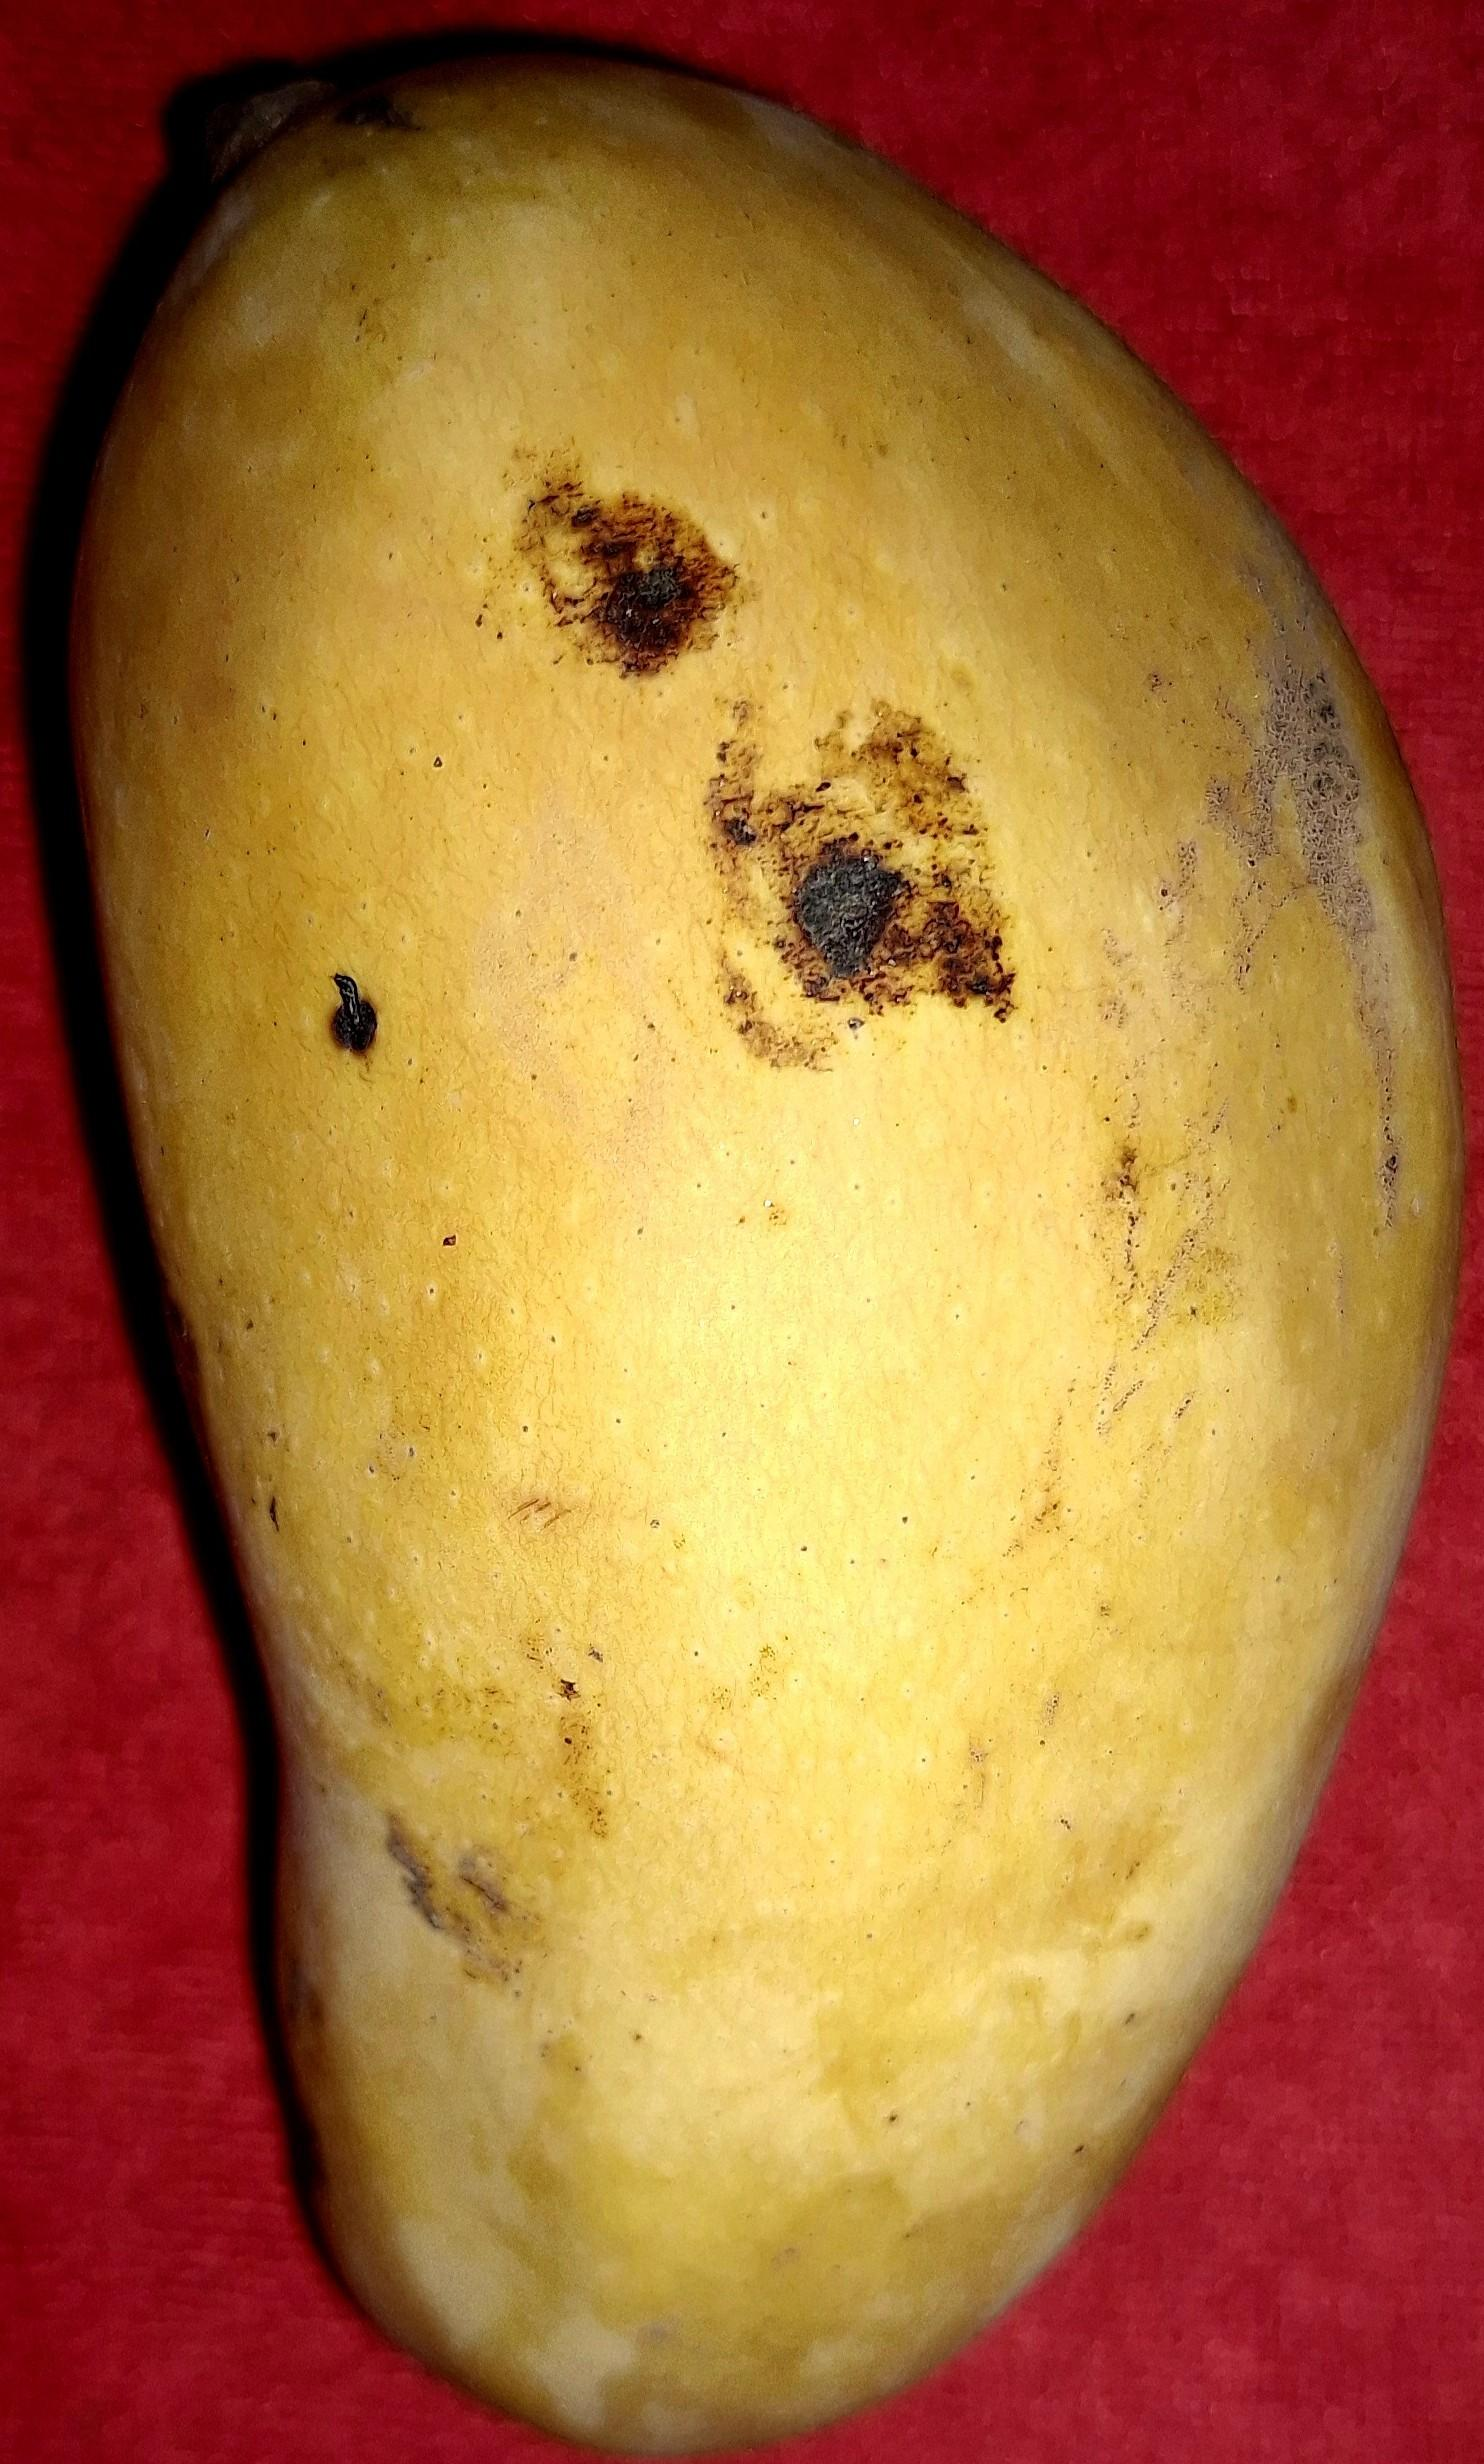mango: (65, 46, 1466, 2452)
